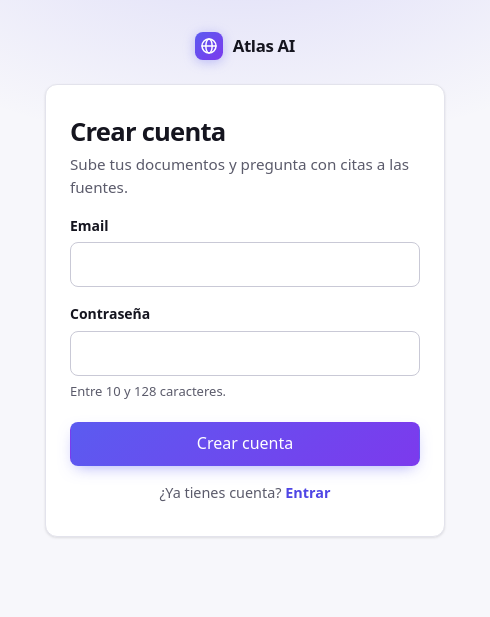
Test: registro › explica que el registro está cerrado y no abre sesión
Type "ana@example.com" into the field labelled "Email" at (245, 265), box [70,242,420,288]
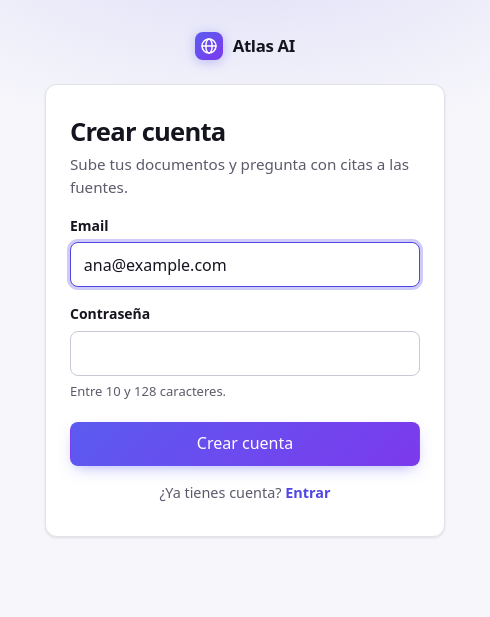
Type "correct horse battery" into the password field labelled "Contraseña" at (245, 354), box [70,331,420,376]
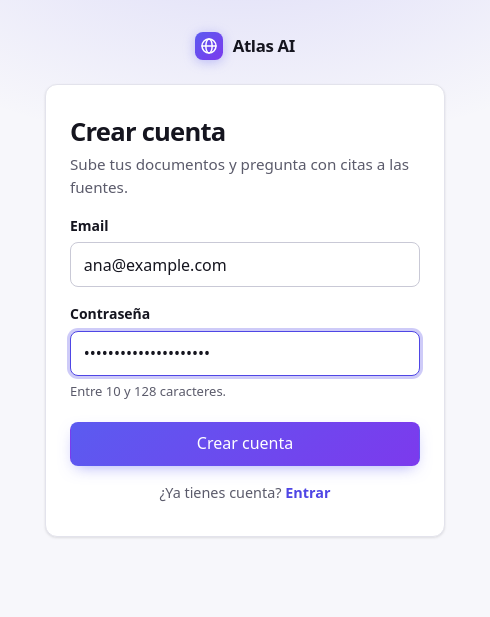
Click the button "Crear cuenta" at (245, 444), box [70,422,420,466]
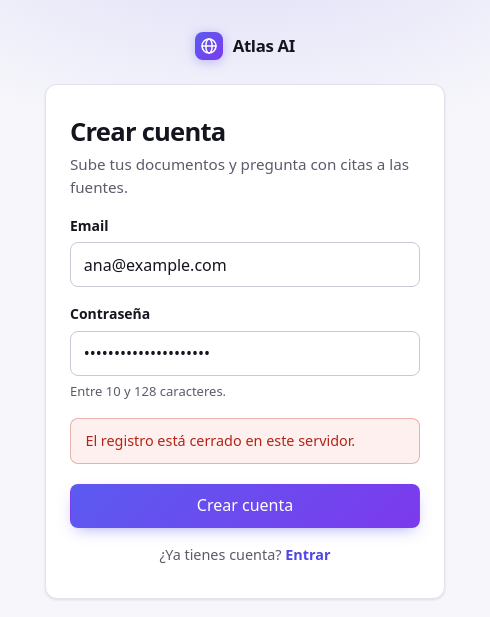
Now the message reads "El registro está cerrado en este servidor.", box [85,431,355,450]
